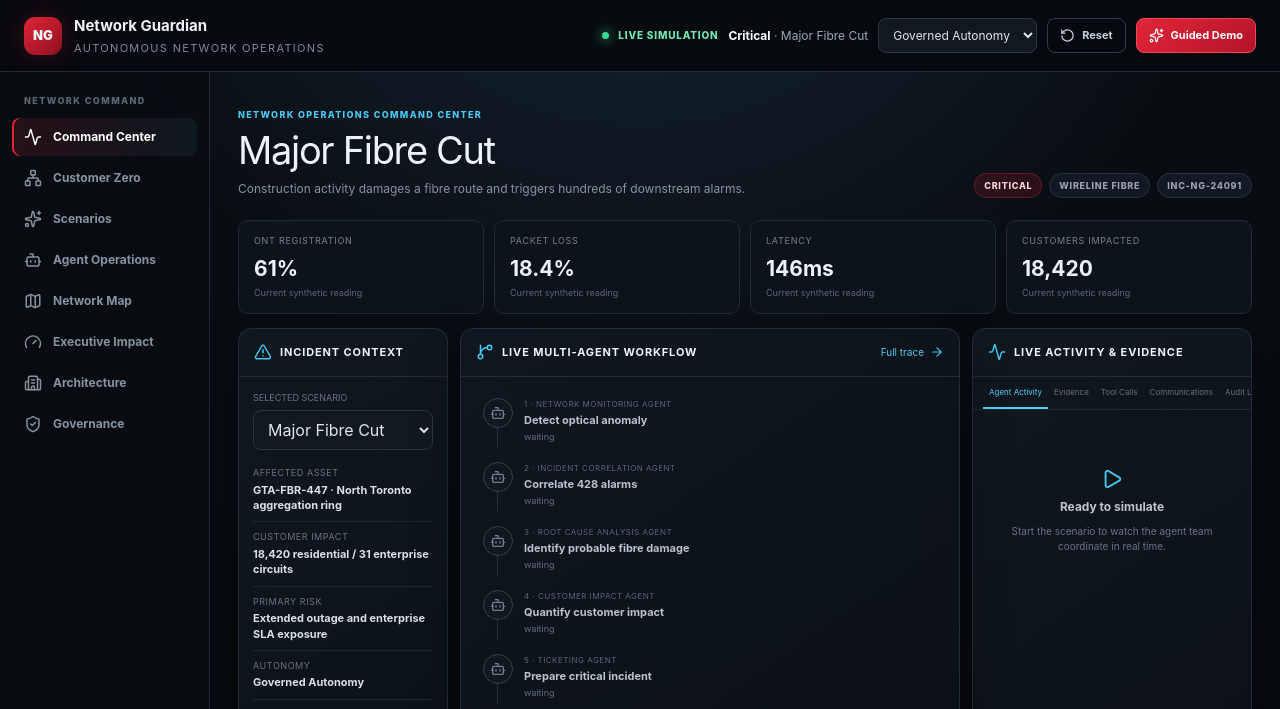
Network Guardian › agent clicks open the correct detail drawer
Click the text "Detect optical anomaly". click: (586, 420)
box: x1=524 y1=413 x2=648 y2=427
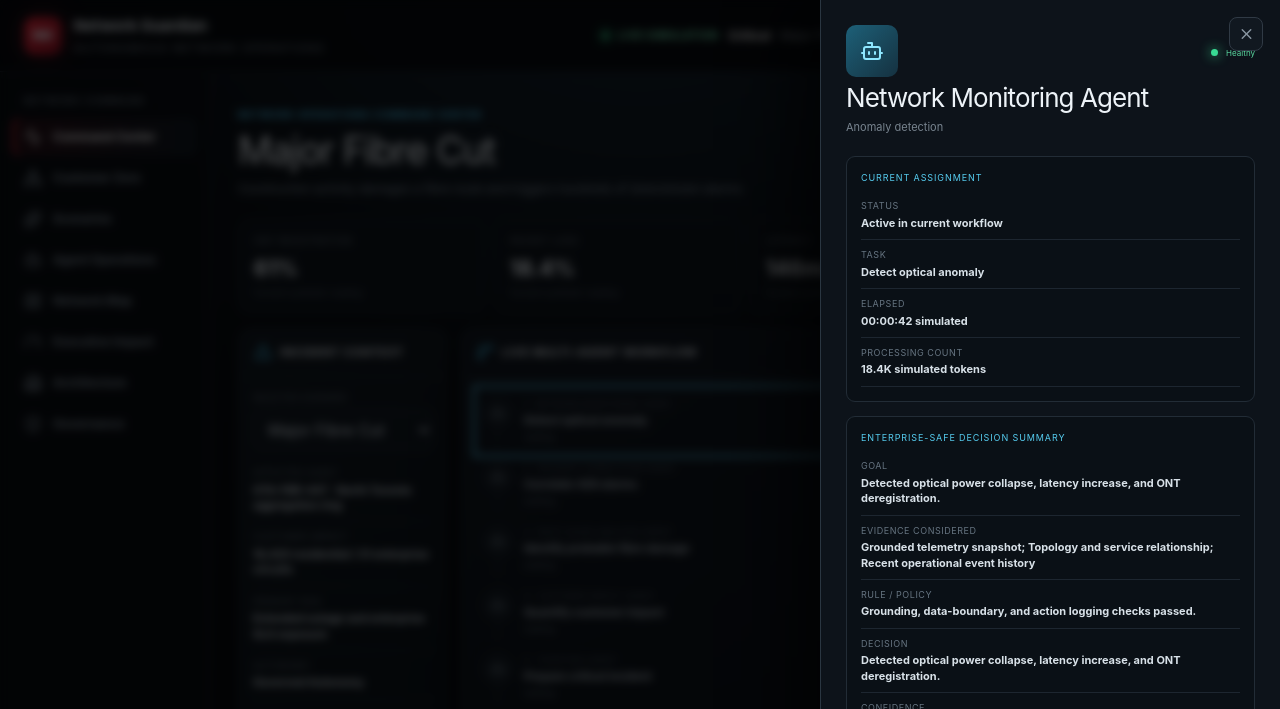
expect the heading "Network Monitoring Agent" is shown: met, box x1=846 y1=84 x2=1186 y2=111
